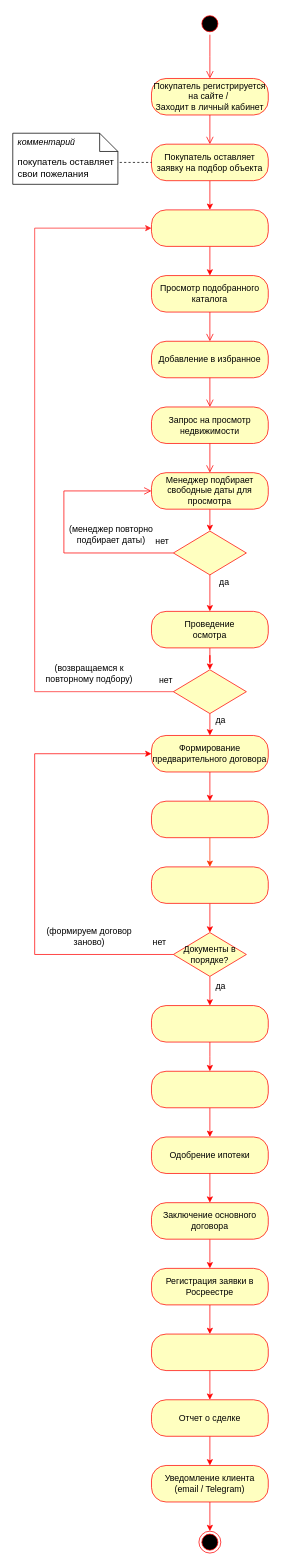
The diagram is 281 pixels wide and 1566 high, and some of its shapes have lost their labels. The shapes that lost their labels are listed below. From the top down, each one's centre as x and y in pixels, then its label:
At pixel 209 227: "Автоматический подбор объектов по фильтрам".
At pixel 209 552: "Дата удобна?".
At pixel 209 691: "Объект подходит?".
At pixel 209 819: "Запуск юридической проверки".
At pixel 209 884: "Загрузка сканов документов".
At pixel 209 1023: "Интеграция с банком: ипотечный калькулятор".
At pixel 209 1089: "Отправка заявки на ипотеку".
At pixel 209 1352: "Формирование акта приема-передачи".
